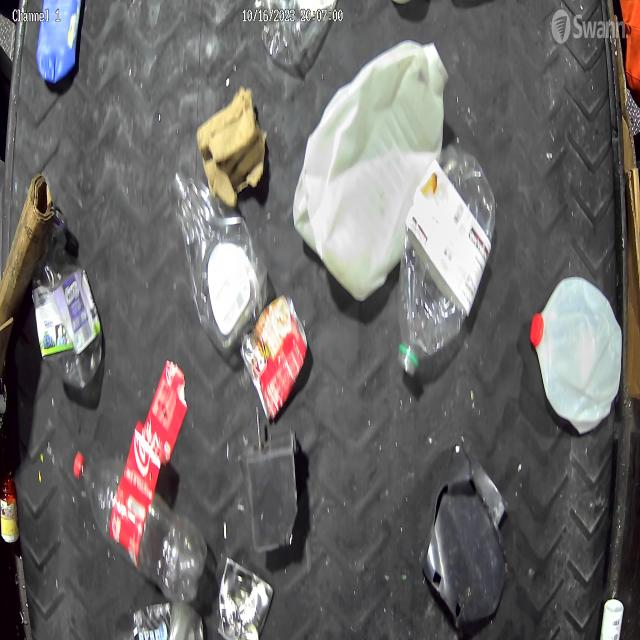can: (239, 292, 308, 420), (216, 554, 275, 640)
milk_jug: (292, 38, 449, 301), (528, 276, 622, 436)
plastic_bottle: (397, 145, 496, 376), (72, 449, 209, 606), (31, 207, 104, 388)
